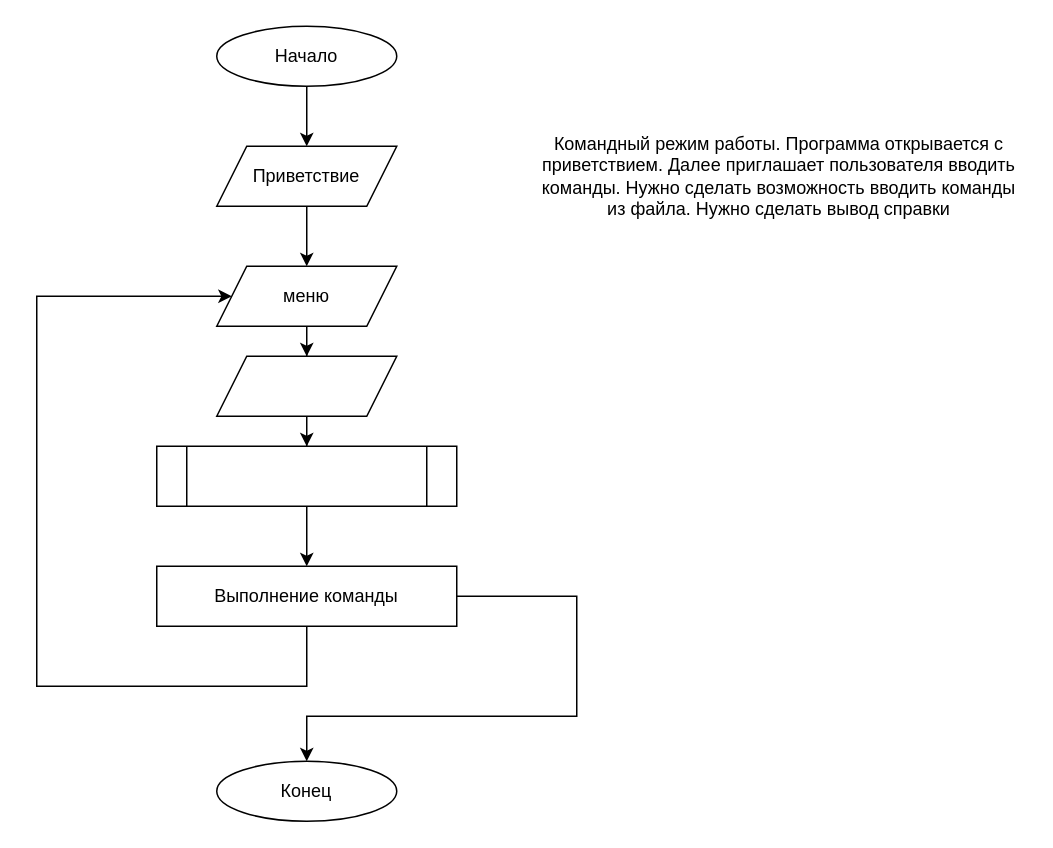
Some shapes in this 1053 by 848 pixel diagram are drawn without their labels. The centre of each missing label's shape, as x and y in pixels:
"Ввод команды" goes at pixel 306 385.
"Чтение файла конфигурации" goes at pixel 306 475.
